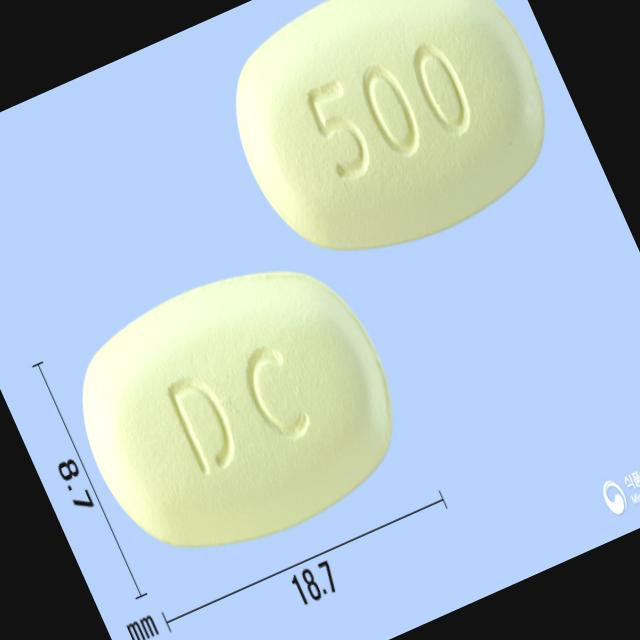Clavix: (44, 222, 436, 598), (195, 0, 587, 298)
